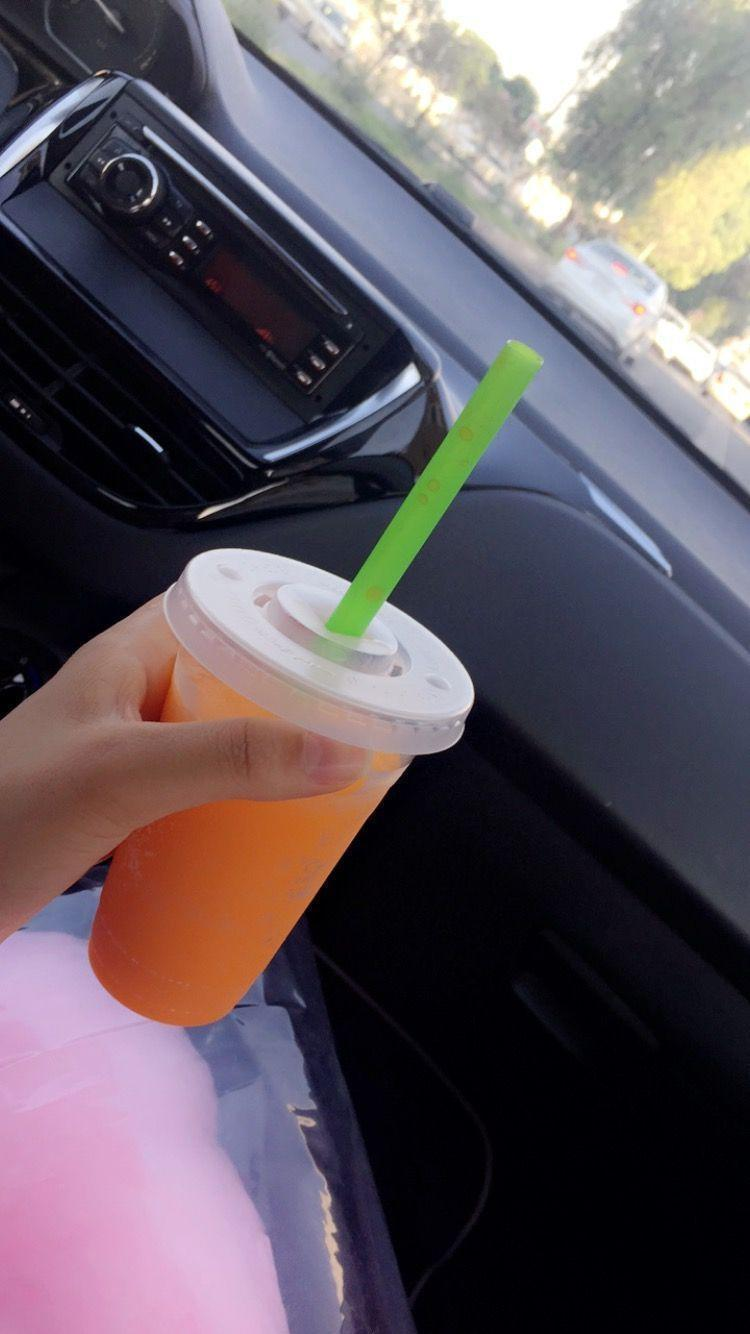cup-disposable: (87, 548, 477, 1028)
